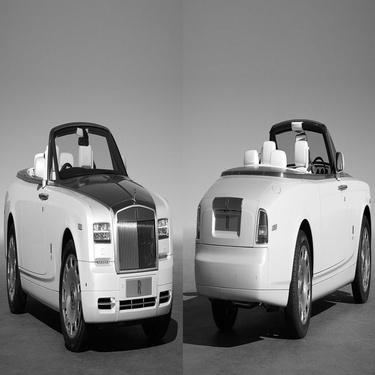car: (183, 106, 371, 335), (1, 109, 173, 322)
